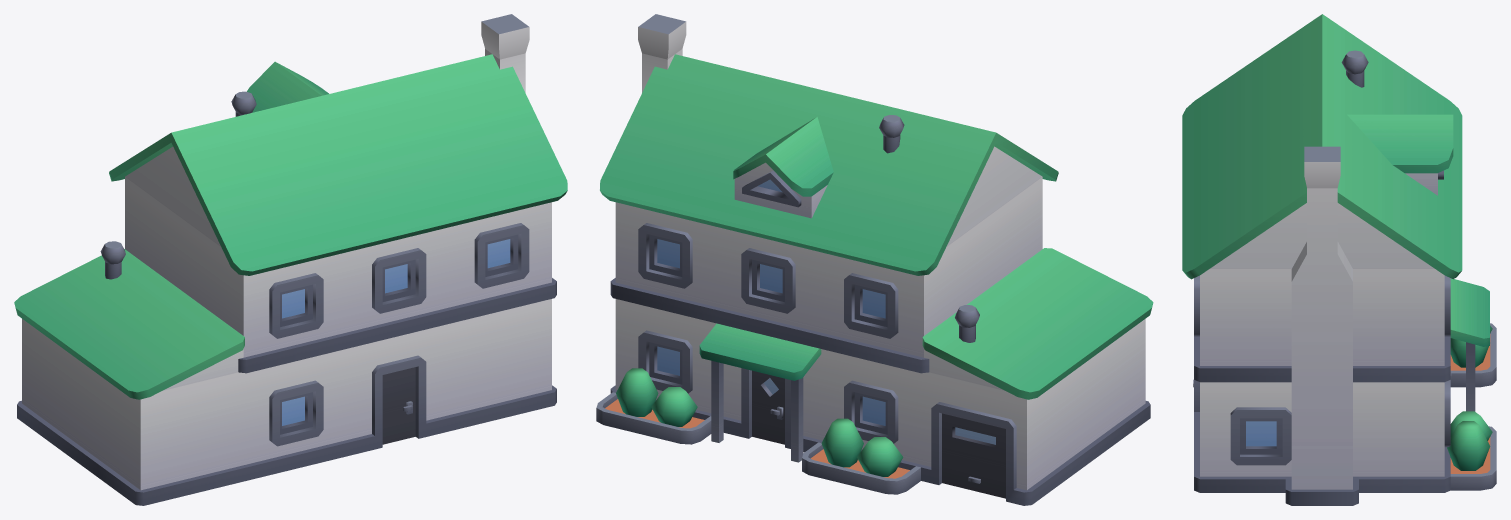
File: kenney-city-suburban-building-type-d.glb
The picture shows the model from 3 angles, left to right: view 1: azimuth 30°, elevation 25°; view 2: azimuth 150°, elevation 25°; view 3: azimuth 270°, elevation 25°; orthographic projection. The views are drawn at different scales.
Visible parts, largest first — view 1: building-type-d; view 2: building-type-d; view 3: building-type-d.
Boxes of the visible parts, x1,y1,x2,y2 form: building-type-d: (14, 14, 567, 505); building-type-d: (596, 14, 1153, 505); building-type-d: (1182, 14, 1496, 505).
Bounding box in the file's own units: 1.76 × 1.24 × 1.03.
Materials: 1 (1 with a texture image).
